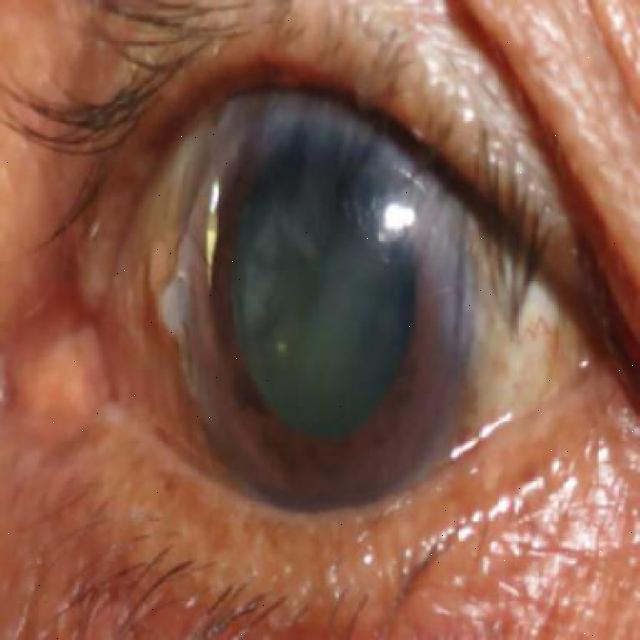Cataract: (164, 79, 478, 522)
